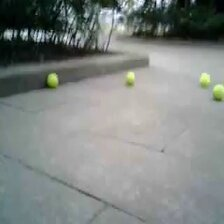tennis: (46, 72, 60, 86), (212, 84, 224, 99), (198, 73, 212, 85), (125, 71, 136, 86)
